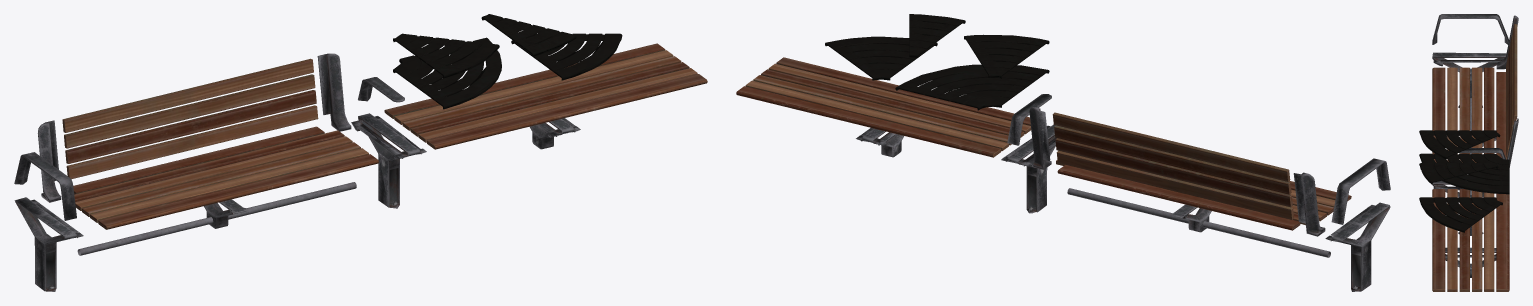
Rendered from street-bench.glb.
3 renders of one model, left to right at view 1: azimuth 30°, elevation 25°; view 2: azimuth 150°, elevation 25°; view 3: azimuth 270°, elevation 25°, orthographic. The views are drawn at different scales.
Visible parts, largest first — view 1: seat, seat_back, connector_60, crossbar, legs_double; view 2: seat, seat_back, connector_60, crossbar, legs_double; view 3: seat, connector_60, legs_double, crossbar, seat_back.
Boxes of the visible parts, x1=… form: seat: x1=73, y1=43, x2=707, y2=229; seat_back: x1=62, y1=58, x2=318, y2=179; connector_60: x1=393, y1=14, x2=622, y2=109; crossbar: x1=14, y1=53, x2=404, y2=255; legs_double: x1=14, y1=113, x2=580, y2=291; seat: x1=736, y1=57, x2=1351, y2=230; seat_back: x1=1052, y1=112, x2=1294, y2=219; connector_60: x1=825, y1=14, x2=1049, y2=110; crossbar: x1=1007, y1=94, x2=1390, y2=257; legs_double: x1=856, y1=124, x2=1390, y2=291; seat: x1=1432, y1=67, x2=1509, y2=291; connector_60: x1=1419, y1=130, x2=1509, y2=232; legs_double: x1=1432, y1=52, x2=1506, y2=277; crossbar: x1=1432, y1=14, x2=1518, y2=194; seat_back: x1=1506, y1=24, x2=1517, y2=157.
Bounding box in the file's own units: 4.34 × 0.9499 × 0.7703.
Materials: 4 (4 with a texture image).
